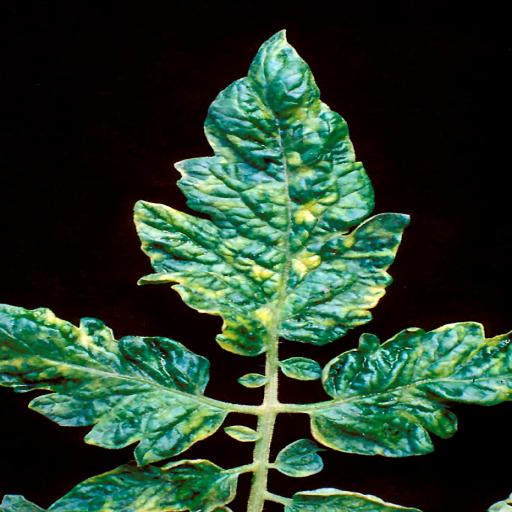Mosaic Virus: (132, 24, 412, 353), (0, 302, 227, 466), (308, 314, 512, 466), (46, 453, 236, 511)
